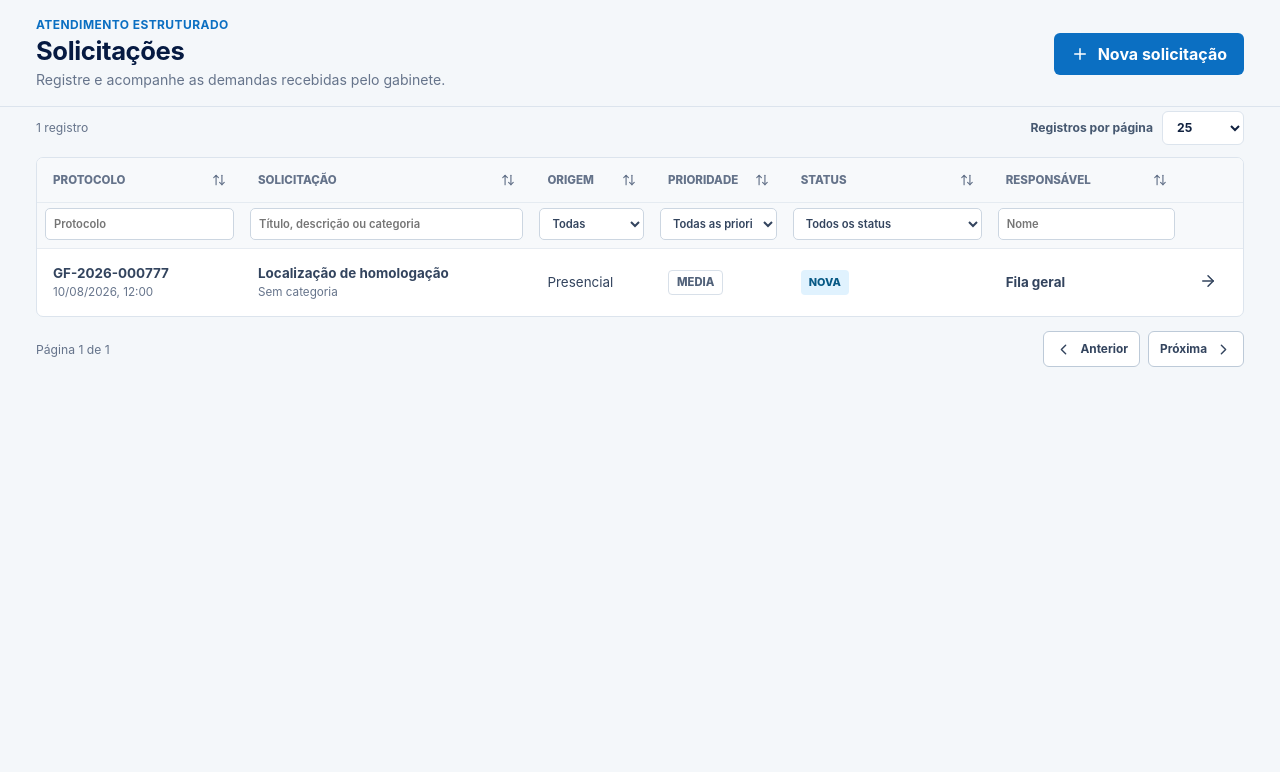
Test case: RequestsPage › consulta o Geoapify em homologação e exige revisão humana
This screenshot has width=1280, height=772.
Click the text "Localização de homologação" at coordinates (353, 273), box [258,265,449,281]
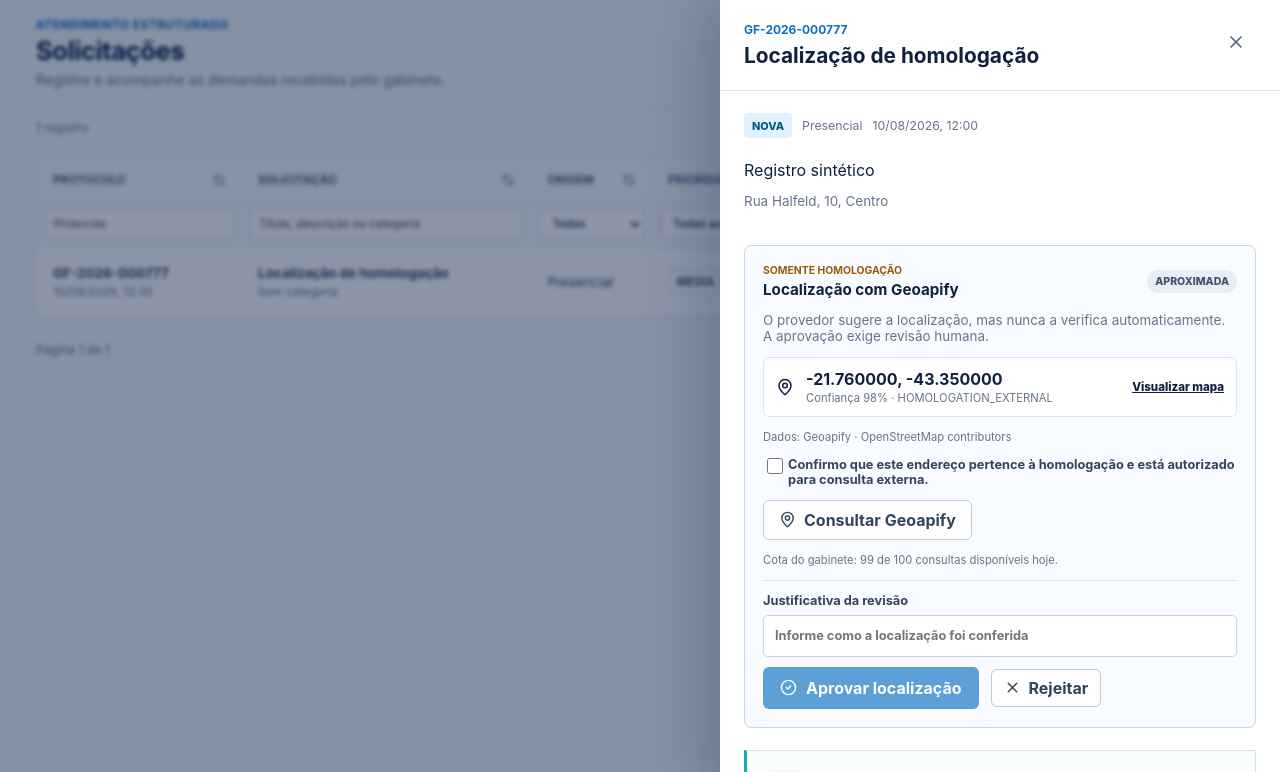
Now the heading "Localização com Geoapify" is shown, box [763,280,959,299]
Now the text "Dados: Geoapify · OpenStreetMap contributors" is shown, box [763,430,1011,444]
Now the button "Consultar Geoapify" is disabled, box [763,500,972,540]
Click the checkbox labelled "Confirmo que este endereço" at coordinates (775, 466), box [767,458,783,474]
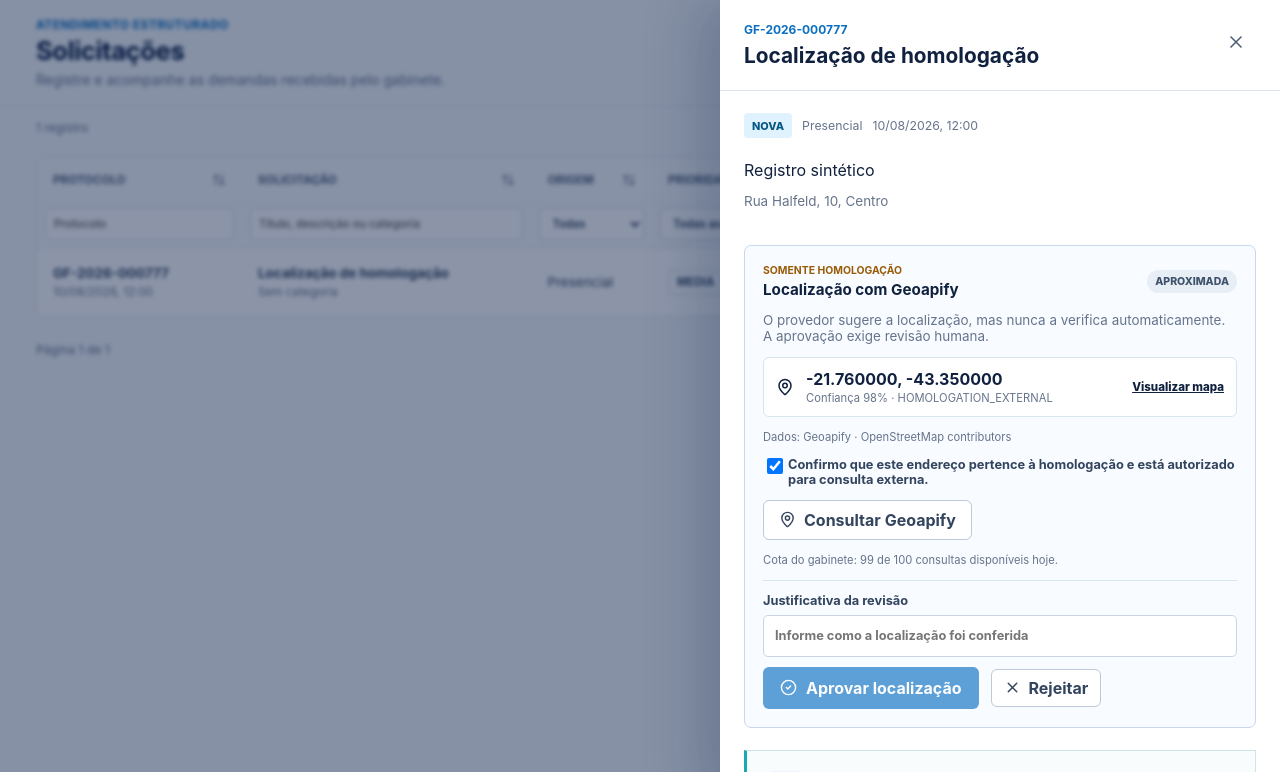
Click the button "Consultar Geoapify" at coordinates (867, 520), box [763,500,972,540]
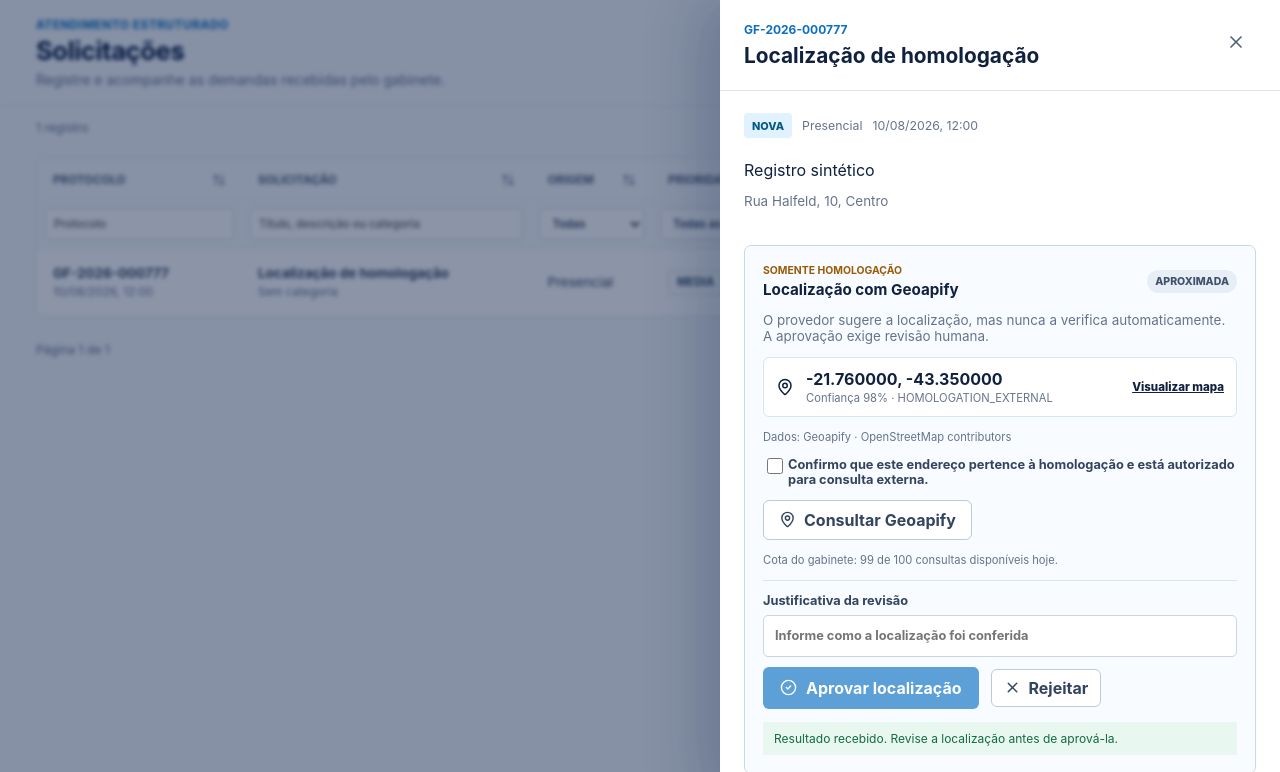
Now the text "Resultado recebido. Revise a localização antes de aprová-la." is shown, box [763,722,1237,755]
